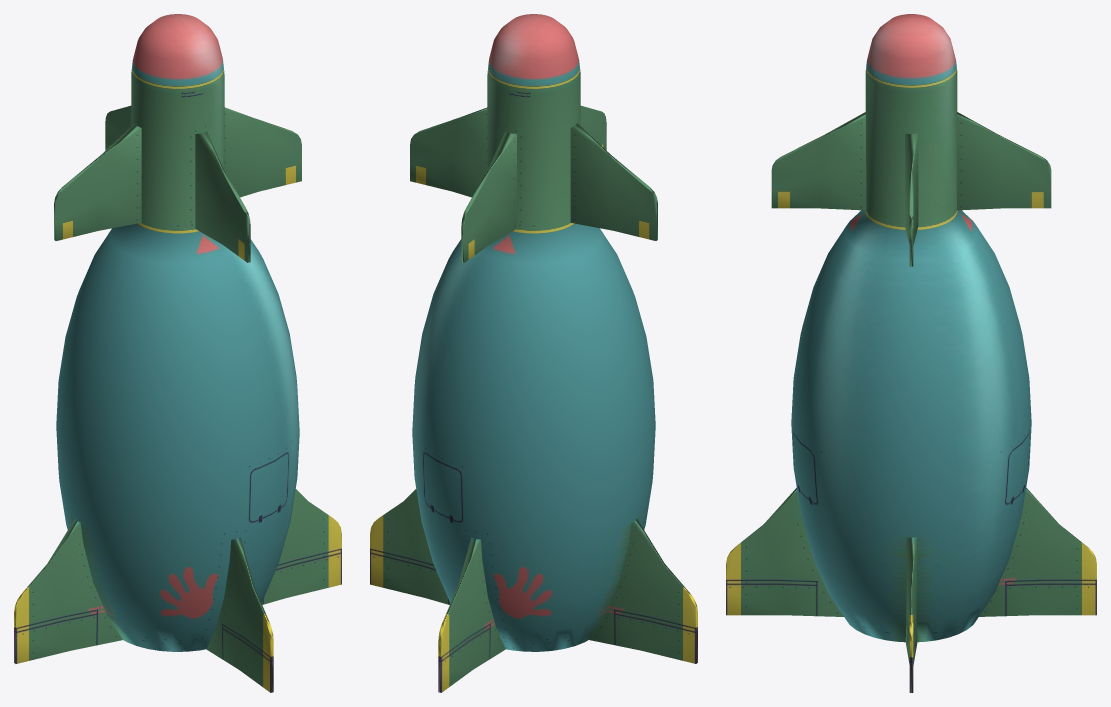
The model's file is Spanky_50fanim.FBX.
The picture shows the model from 3 angles, left to right: view 1: azimuth 30°, elevation 25°; view 2: azimuth 150°, elevation 25°; view 3: azimuth 270°, elevation 25°; orthographic projection.
Parts seen in each view (by area): view 1: Spanky; view 2: Spanky; view 3: Spanky.
Boxes of the visible parts, x1,y1,x2,y2 form: Spanky: (14, 14, 341, 692); Spanky: (370, 14, 697, 692); Spanky: (726, 14, 1096, 692).
Bounding box in the file's own units: 52.64 × 93.18 × 52.64.
1 material, 1 textured.
